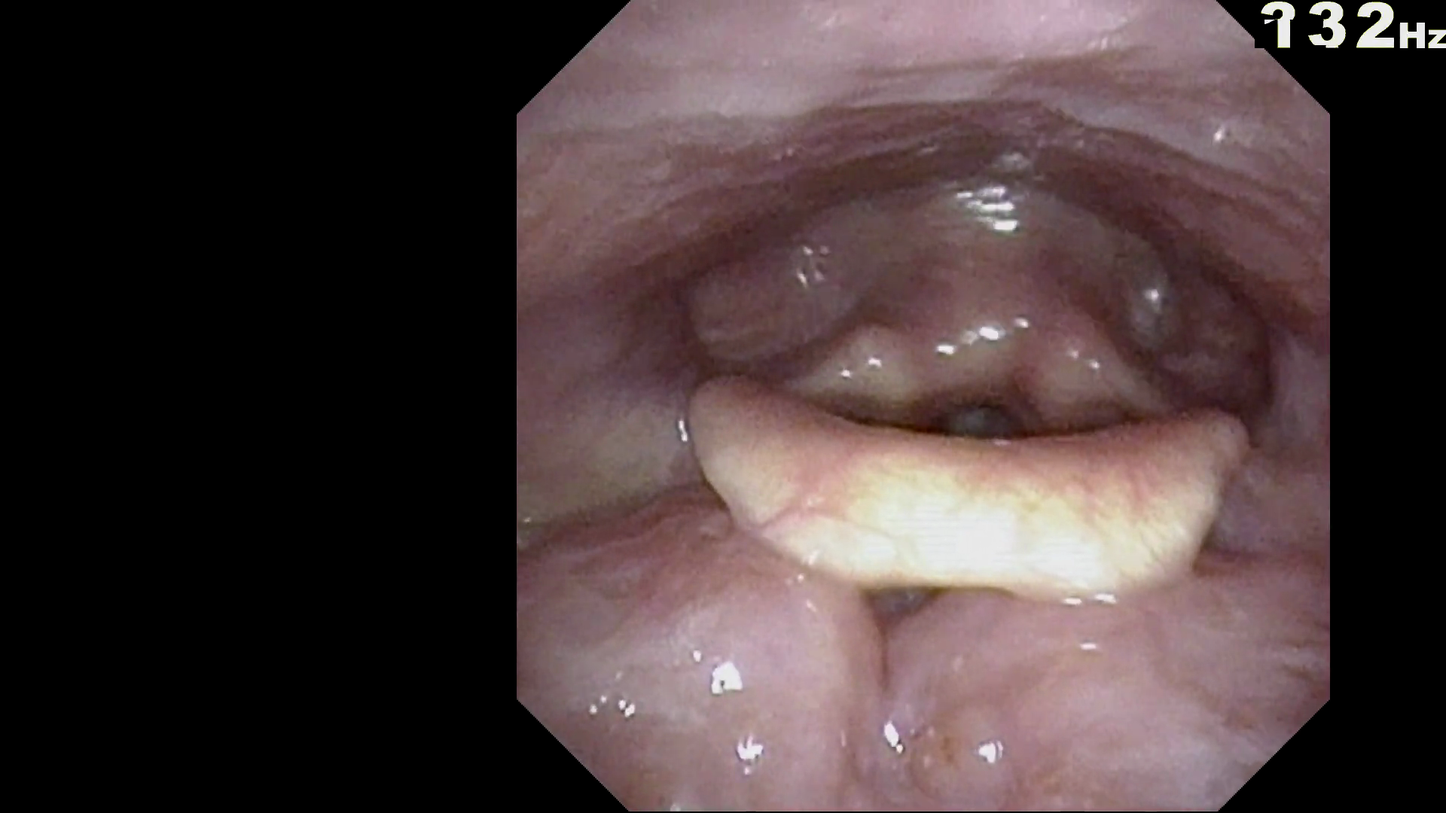epiglottis: (675, 352, 1277, 615)
trachea: (910, 329, 1056, 483)
